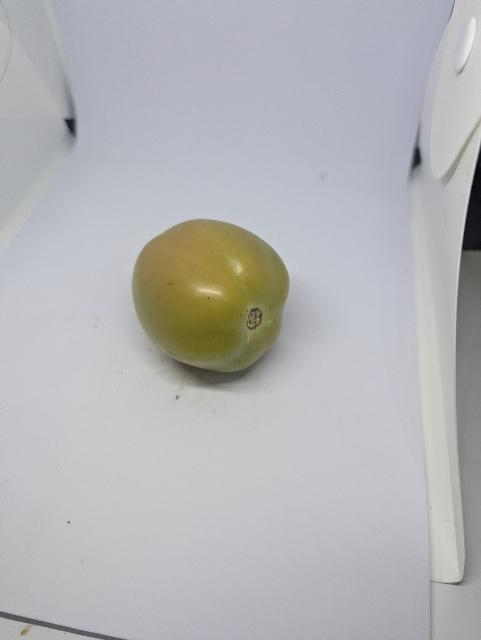breaker: (133, 219, 290, 372)
